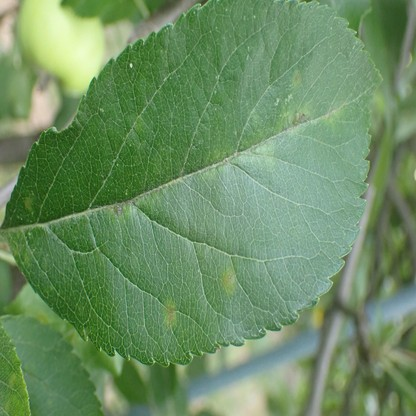scab: (242, 115, 275, 168), (278, 106, 312, 138), (202, 145, 234, 178), (324, 102, 345, 126), (162, 300, 177, 331), (108, 204, 131, 224), (222, 268, 235, 295), (292, 69, 301, 87), (23, 195, 33, 211), (8, 373, 15, 390)
